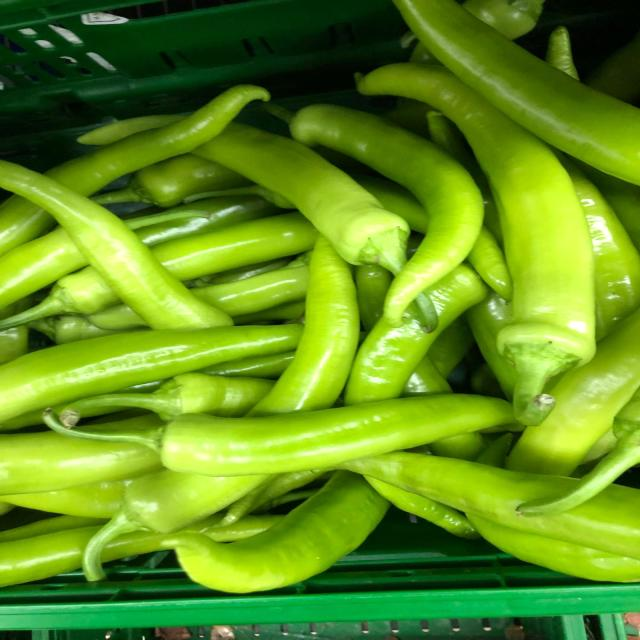green pepper: (256, 88, 488, 328), (40, 386, 549, 477)
